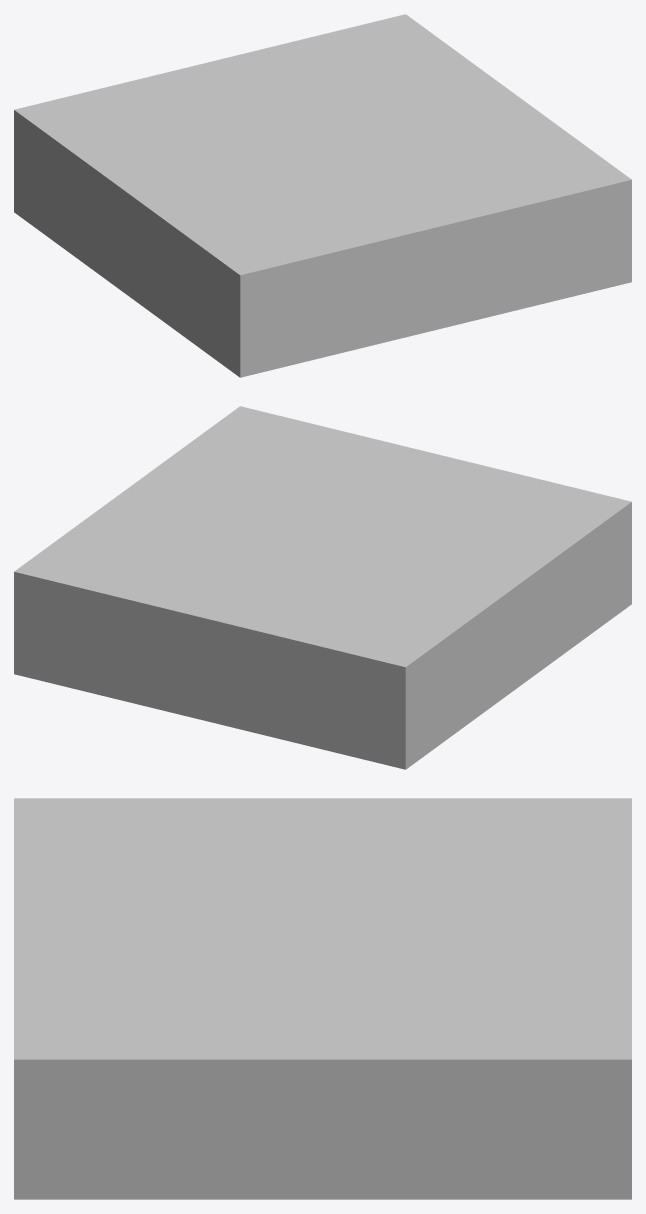
3 views of the same model, one above another, from view 1: azimuth 30°, elevation 25°; view 2: azimuth 150°, elevation 25°; view 3: azimuth 270°, elevation 25° (orthographic). The views are drawn at different scales.
Size of the model in its own units: 8 by 2 by 8.
